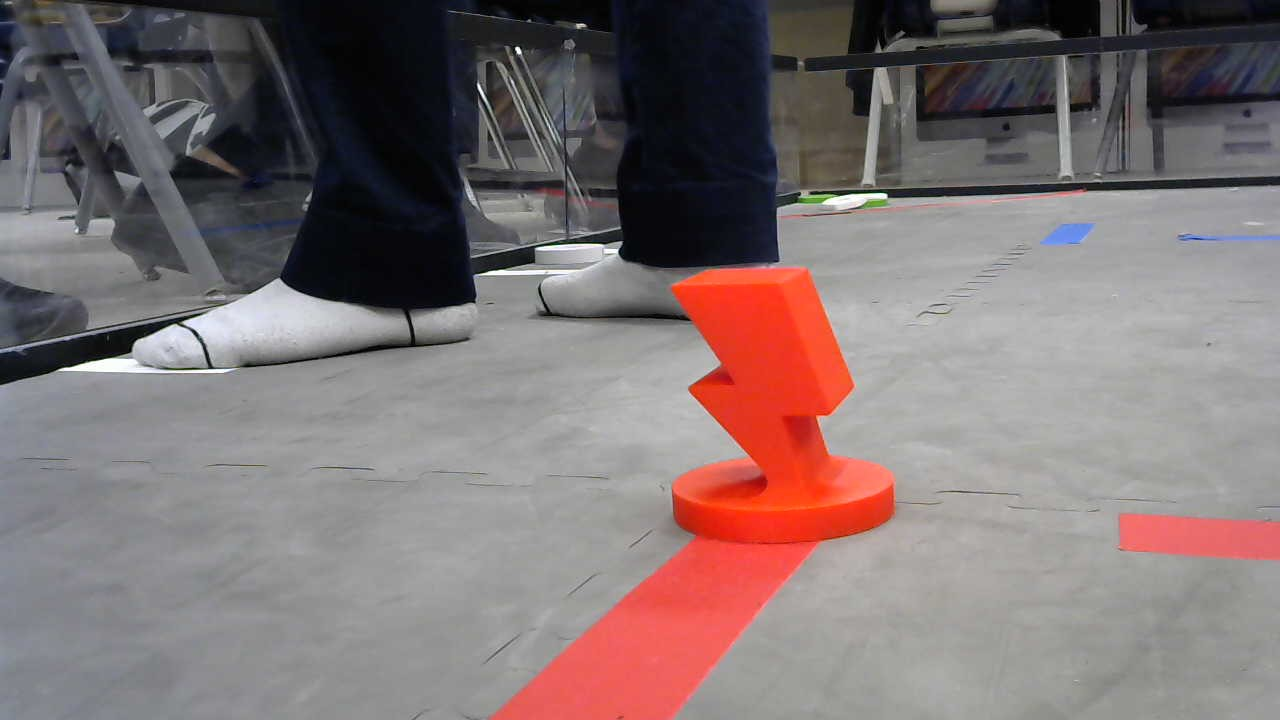redobject: (669, 269, 896, 546)
